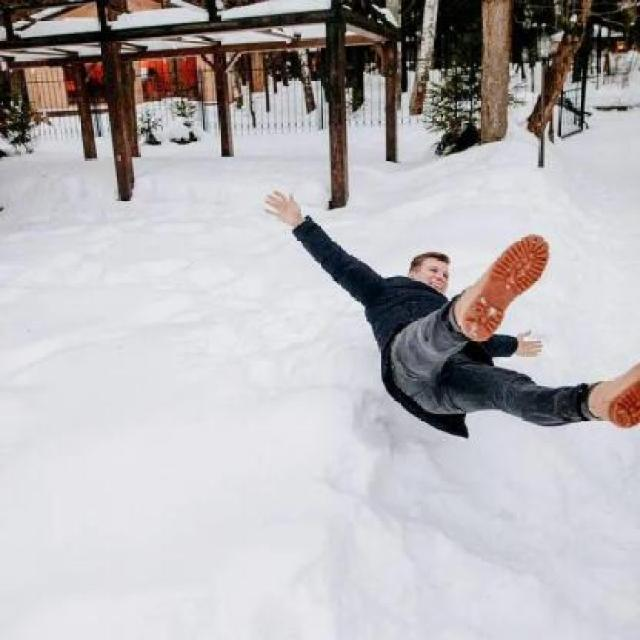fall: (256, 181, 639, 445)
